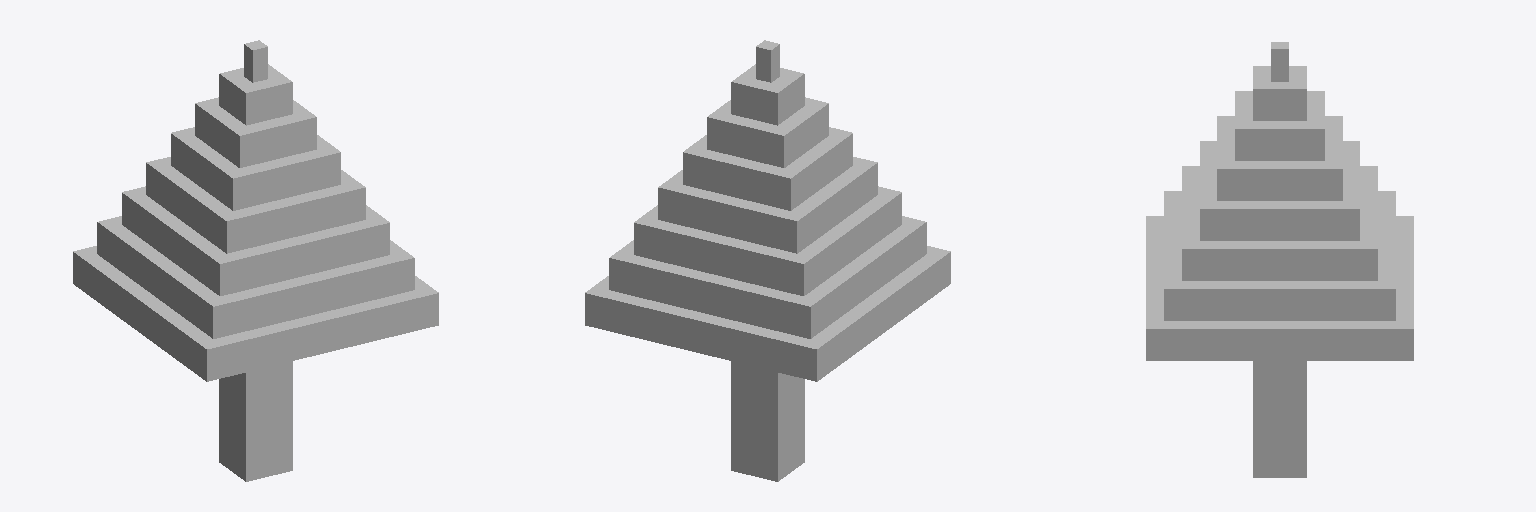
Rendered from tree2.obj.
3 views of the same model, side by side, from view 1: azimuth 30°, elevation 25°; view 2: azimuth 150°, elevation 25°; view 3: azimuth 270°, elevation 25° (orthographic).
Parts seen in each view (by area): view 1: object 1; view 2: object 1; view 3: object 1.
Part boxes in pixels (left/top/right/bottom): object 1: left=73, top=40, right=438, bottom=481; object 1: left=585, top=40, right=950, bottom=481; object 1: left=1146, top=42, right=1413, bottom=477.
Bounding box in the file's own units: 1.5 × 2.6 × 1.5.